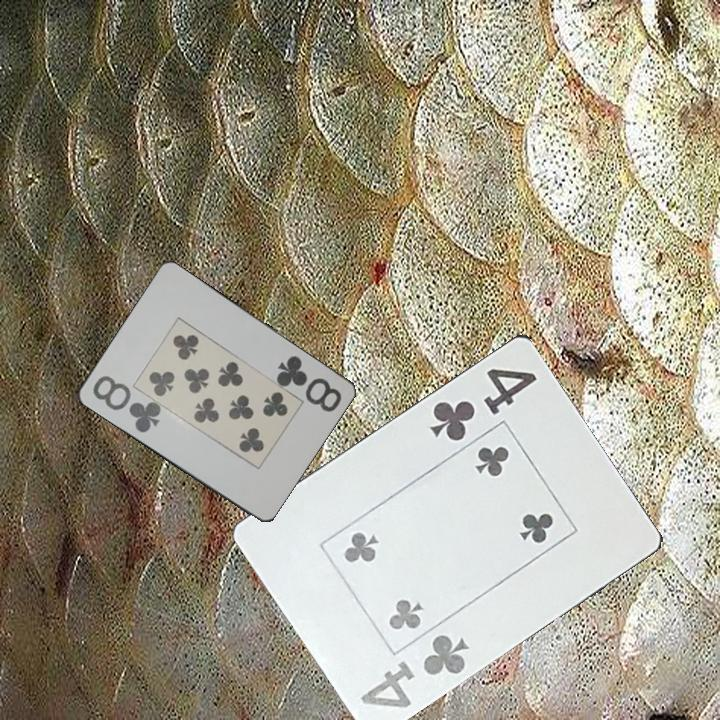4c: (357, 629, 473, 711), (426, 363, 540, 444)
8c: (88, 372, 164, 436), (272, 352, 344, 415)
